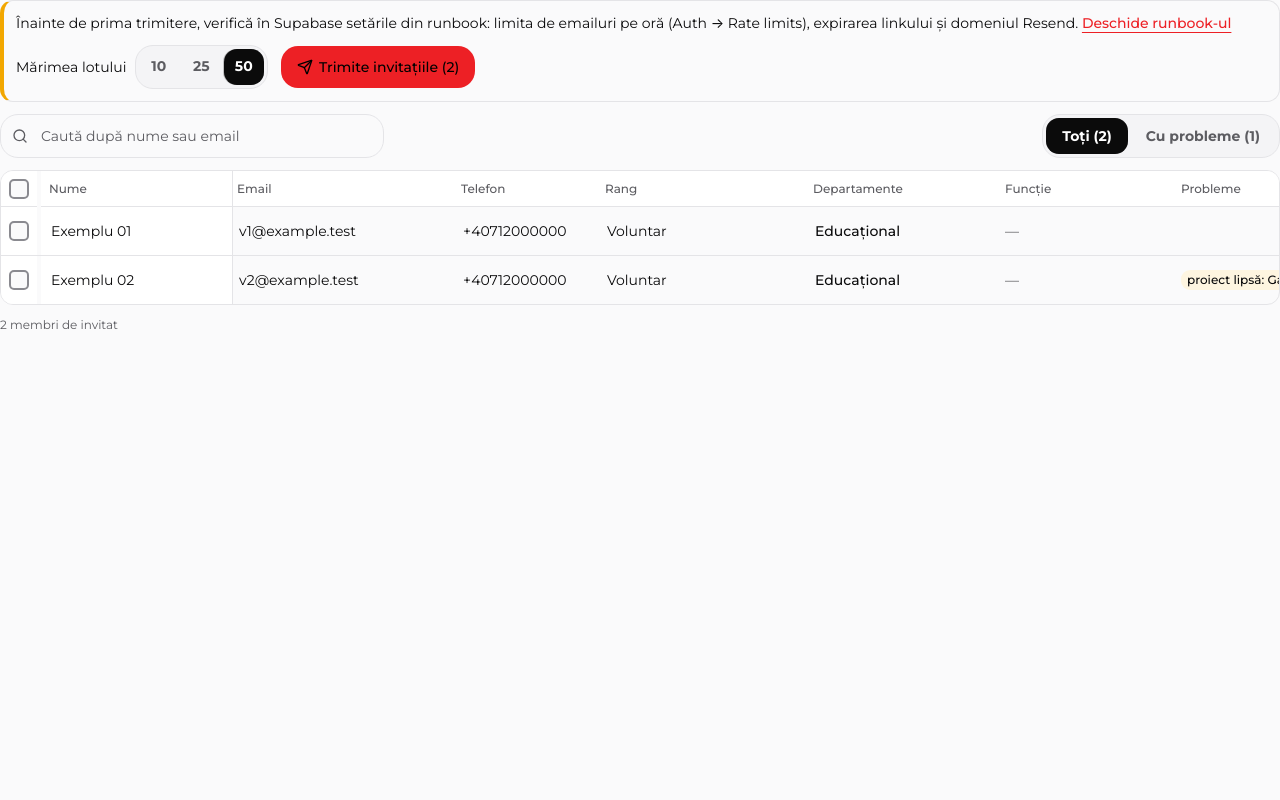
Scenario: the grid › falls back to every row once the last row with problems is sent
This screenshot has width=1280, height=800.
Click the button "Cu probleme (1)" at (1203, 136), box x1=1130 y1=118 x2=1276 y2=154
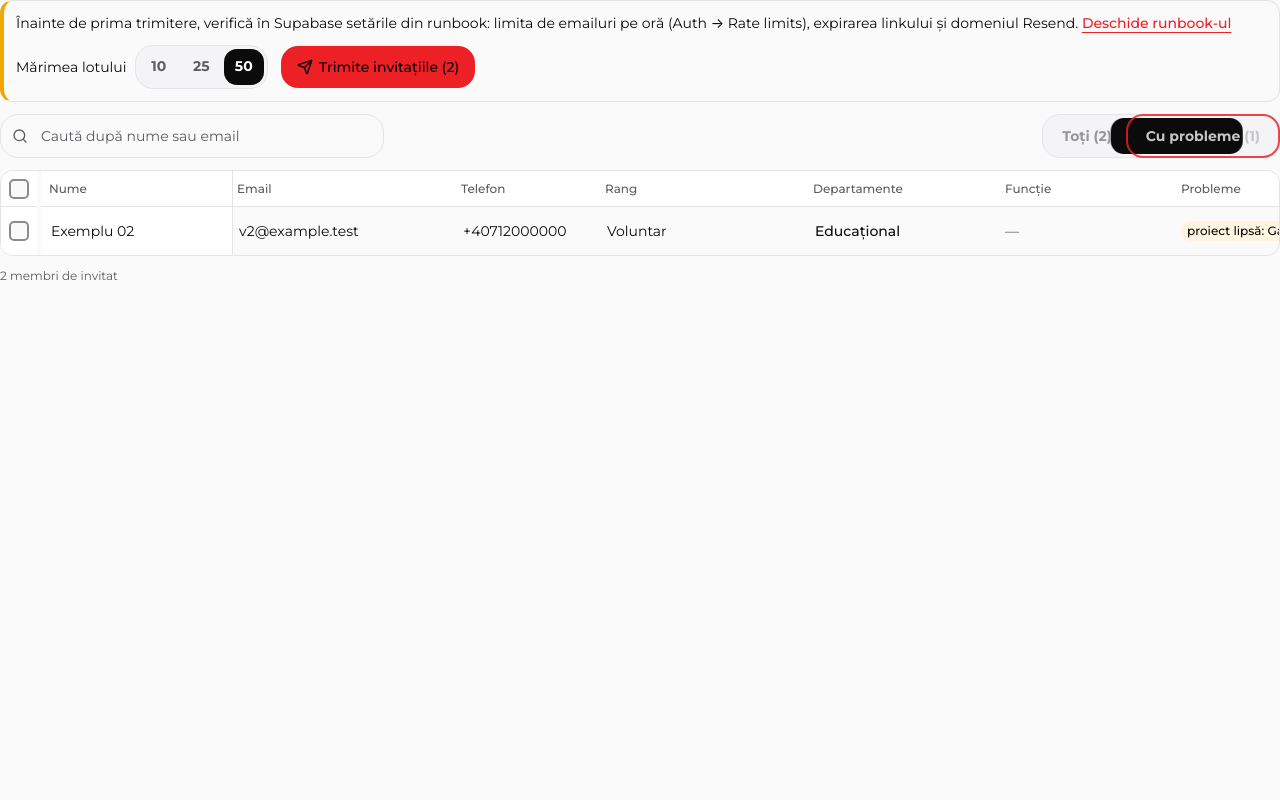
Click the button "Trimite invitațiile (2)" at (378, 67), box x1=280 y1=45 x2=476 y2=89
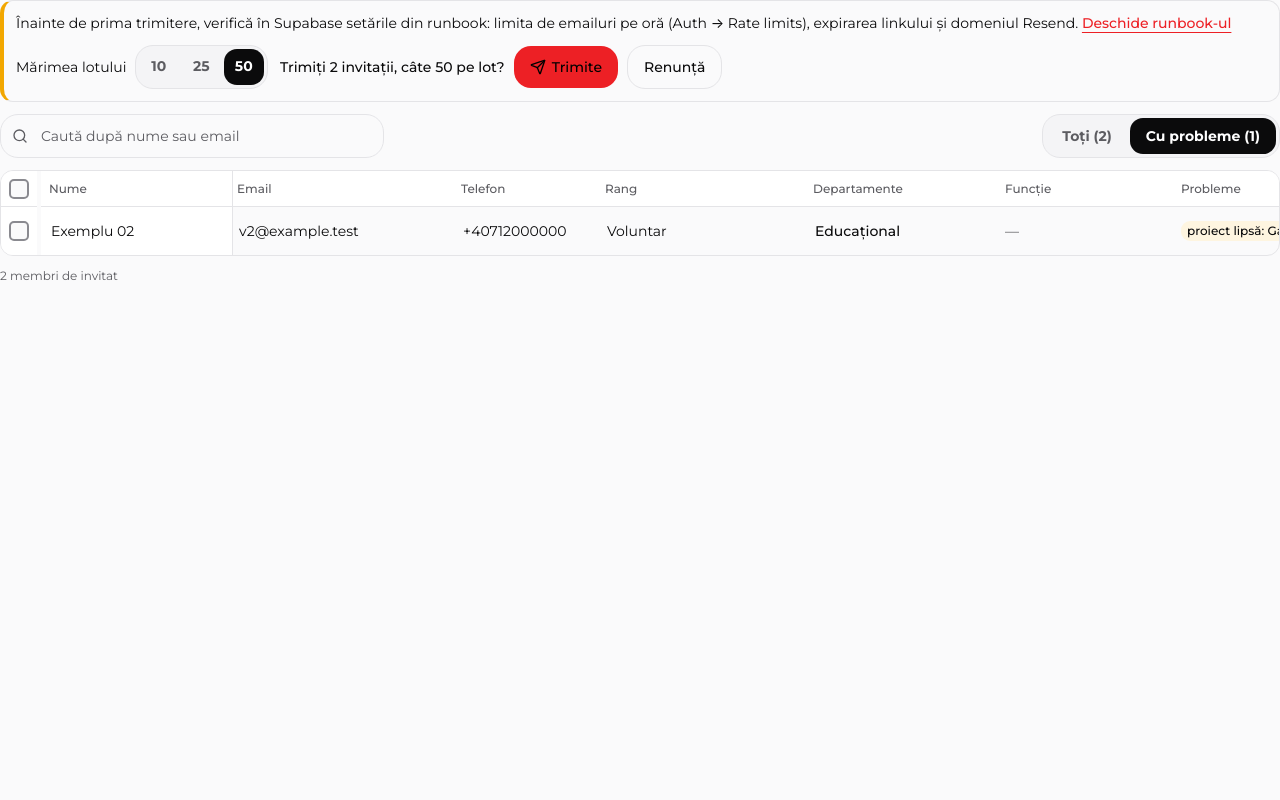
Click the button "Trimite" at (566, 67), box x1=513 y1=45 x2=619 y2=89
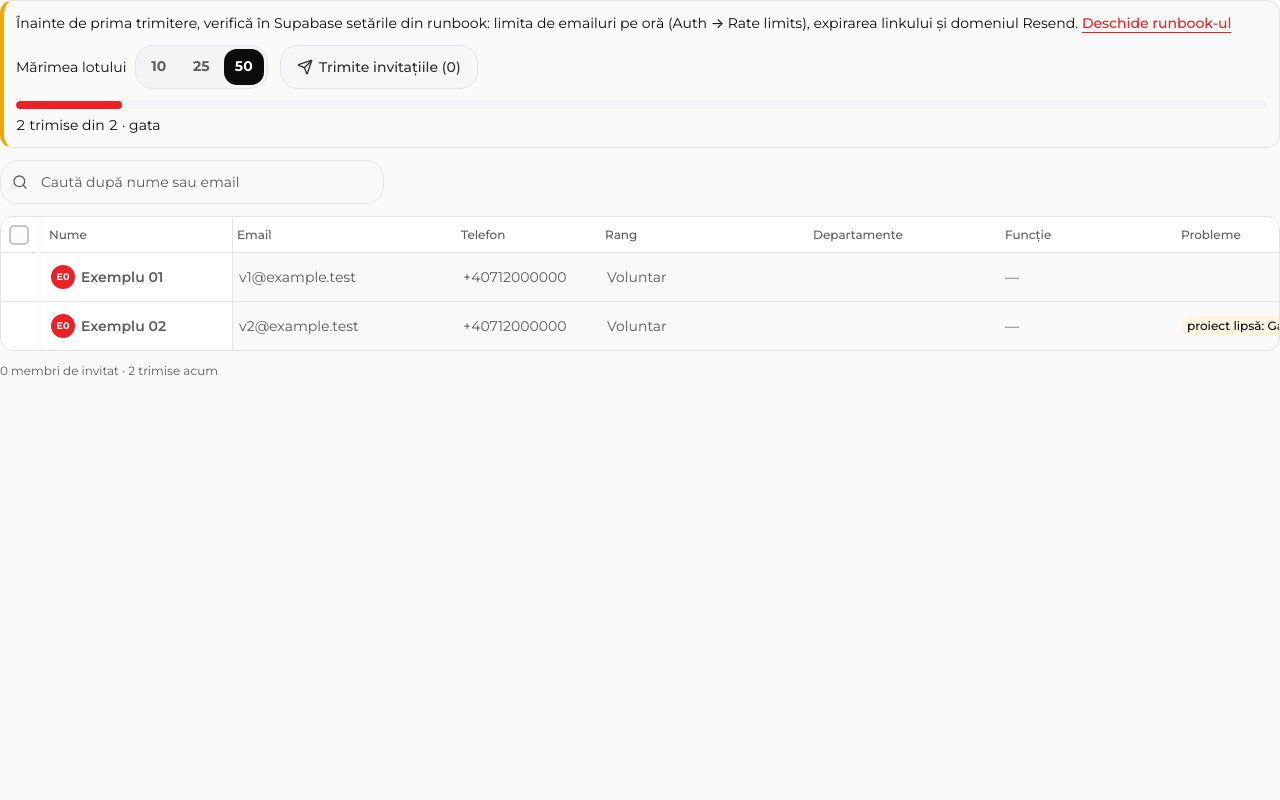
Expected: the button "Cu probleme" is gone
Expected: the text "Exemplu 01" is shown, x1=81 y1=267 x2=163 y2=287
